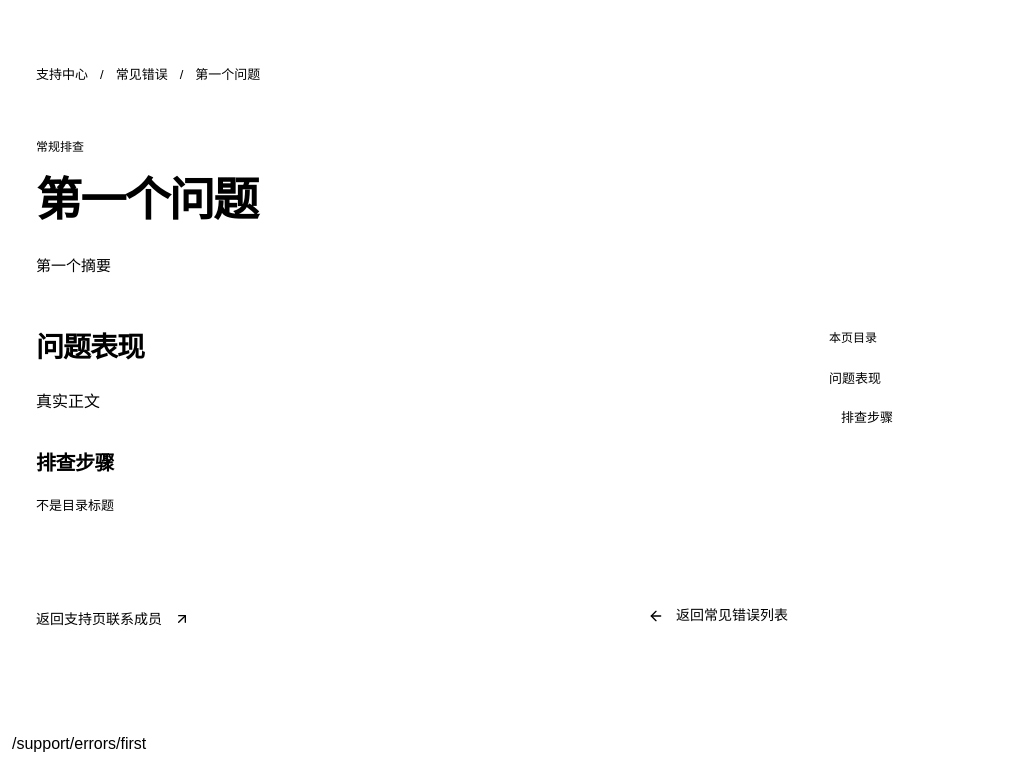
Test: creates a directory only from rendered h2/h3 and clears it when the next article has no headings
Check: the text "真实正文" is shown, box [36, 393, 100, 410]
Click the link "排查步骤": (867, 417) [841, 410, 893, 424]
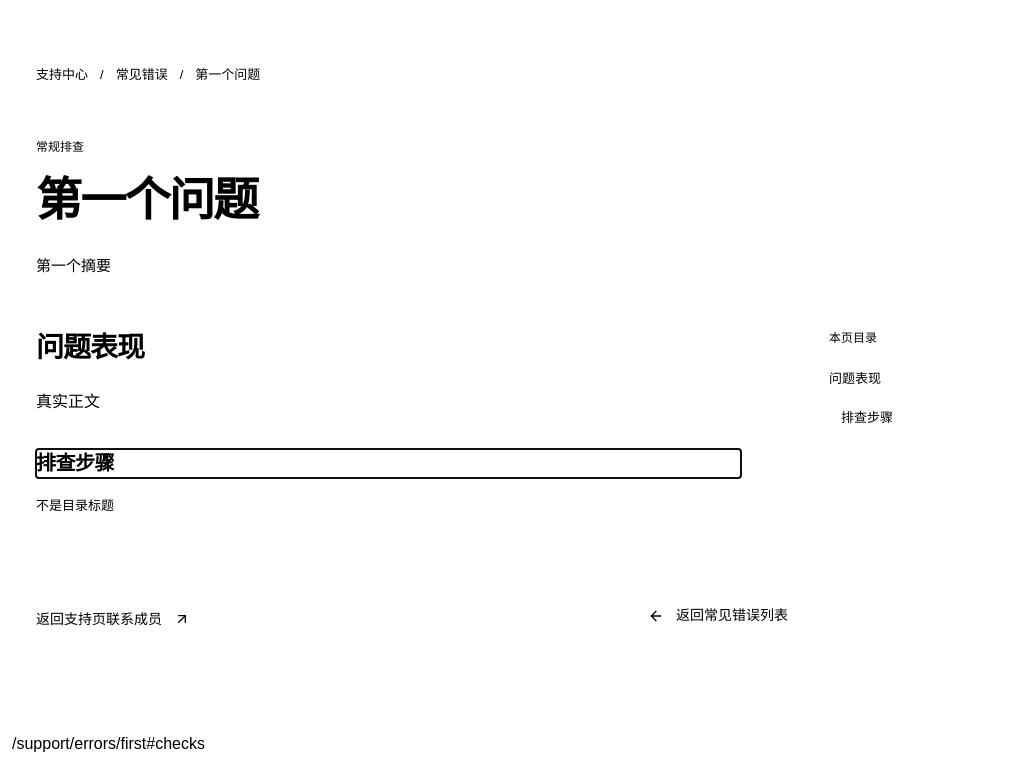
Click the link "返回常见错误列表": (718, 616) [648, 603, 788, 628]
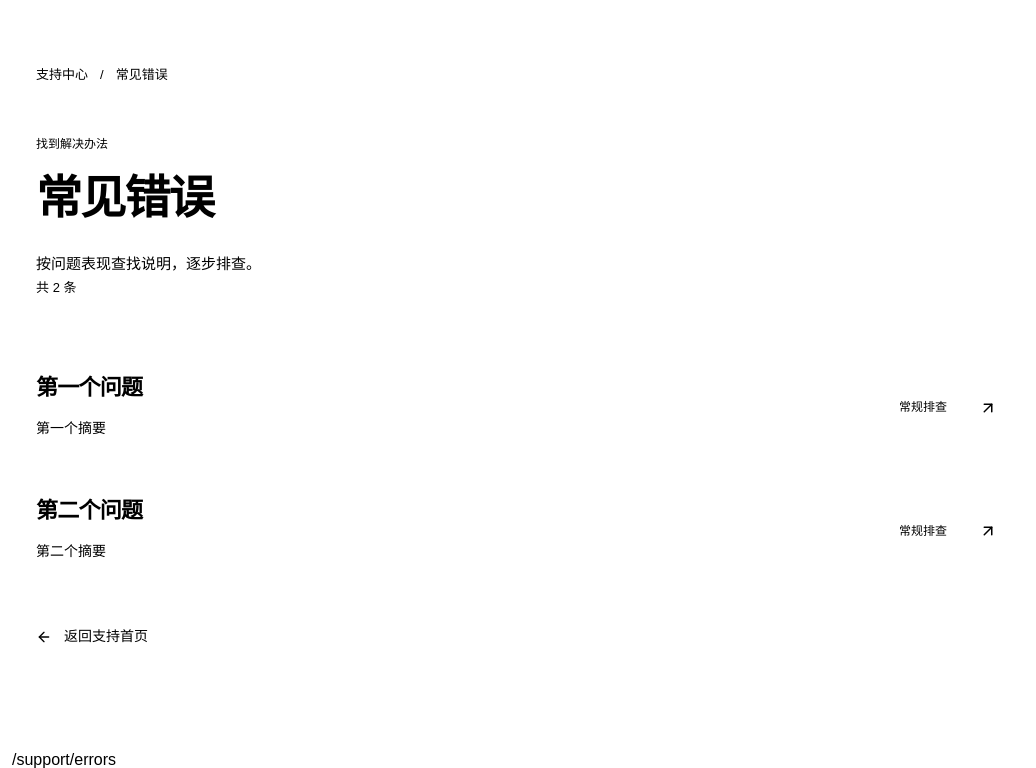
Click the link "第二个问题 第二个摘要 常规排查": (89, 511) [36, 498, 997, 559]
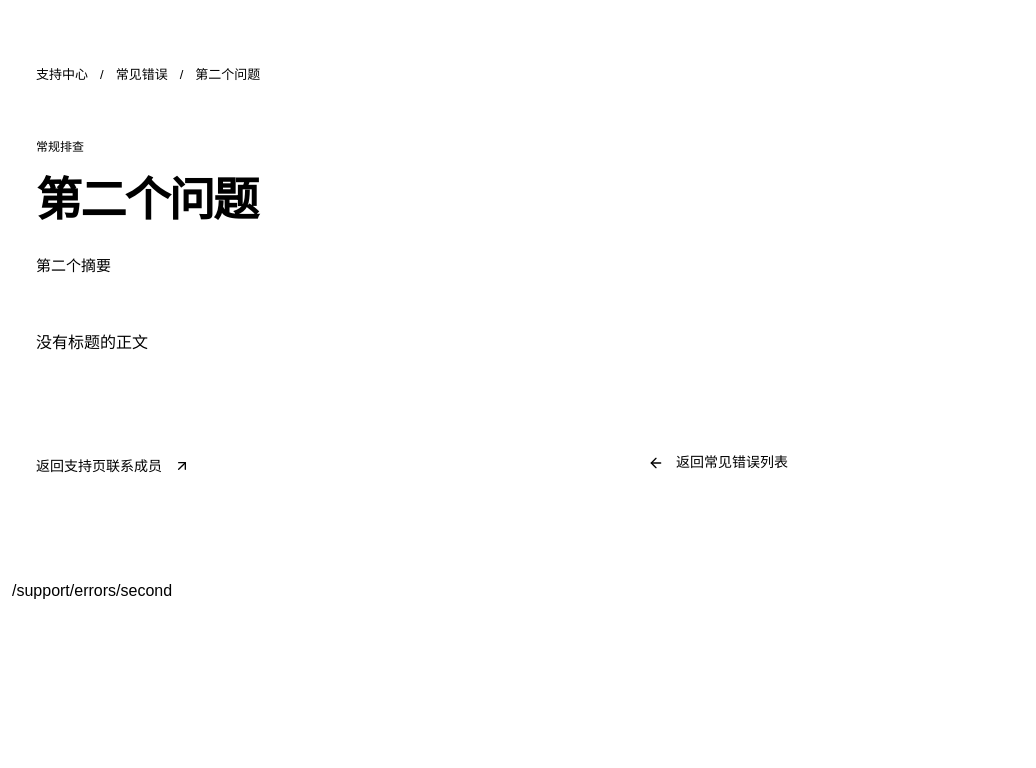
Check: the text "没有标题的正文" is shown, box [36, 334, 148, 351]
